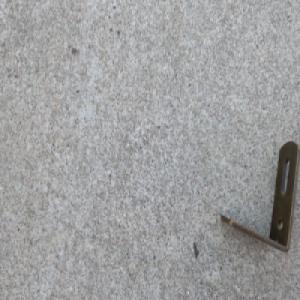MetalPart: (219, 138, 299, 253)
